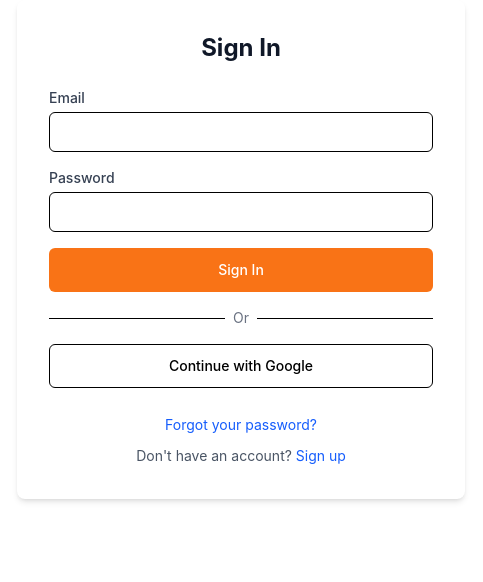
Test case: AuthForm › Error Handling Tests › should display generic error message for unknown errors
In the field labelled "Email": (241, 132) [49, 112, 433, 152], type "test@example.com"
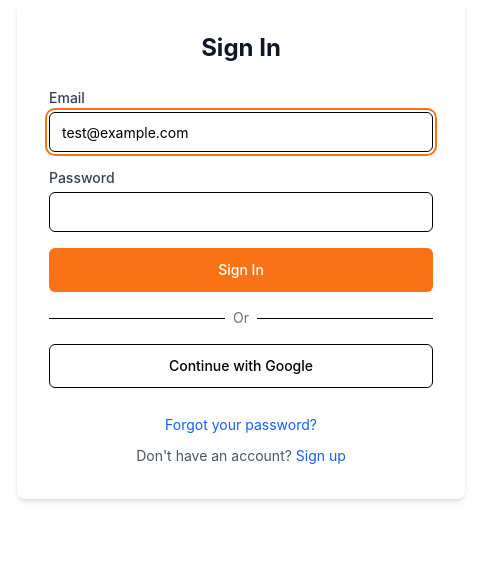
In the password field labelled "Password": (241, 212) [49, 192, 433, 232], type "password123"
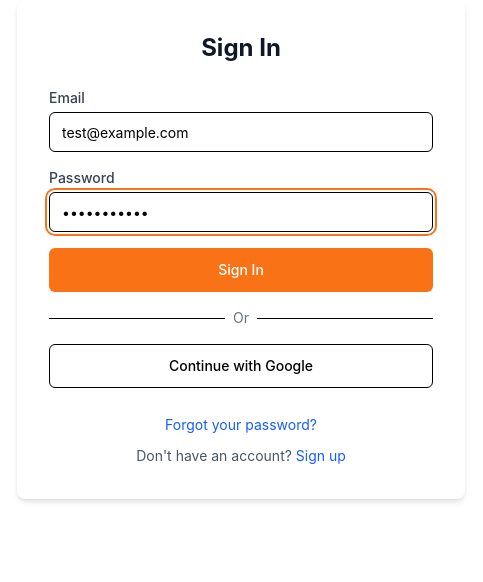
Click the button "Sign In": (241, 270) [49, 248, 433, 292]
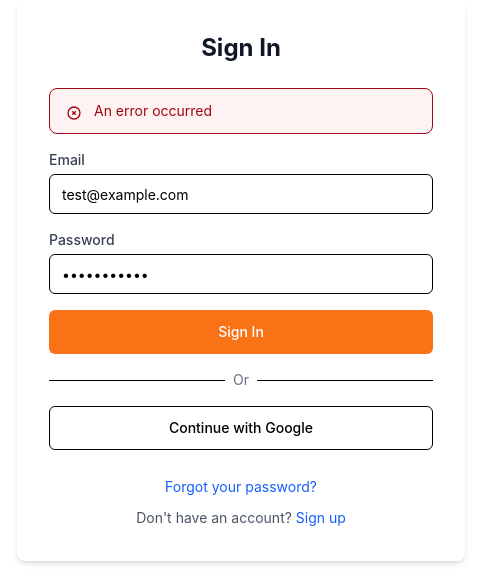
expect the text "An error occurred" is shown: met, box [94, 102, 212, 119]
